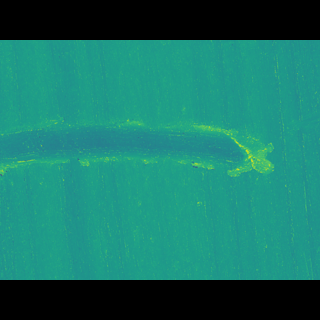Loch: (0, 125, 277, 173)
